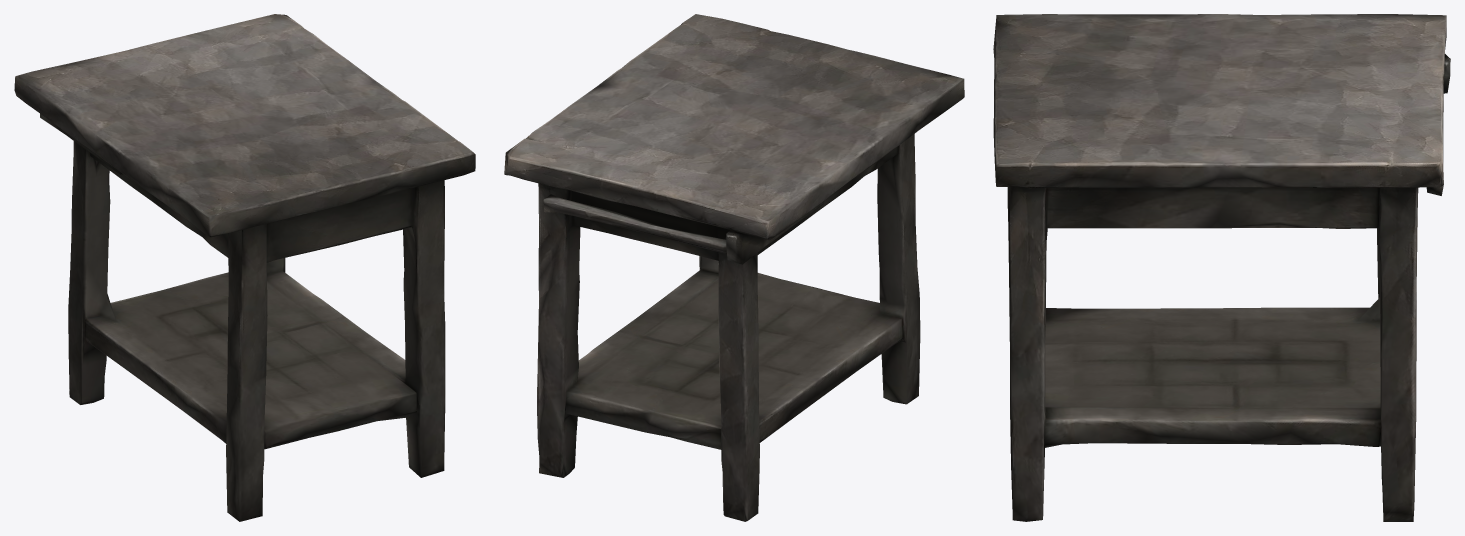
File: washstand_table.glb
3 views of the same model, side by side, from view 1: azimuth 30°, elevation 25°; view 2: azimuth 150°, elevation 25°; view 3: azimuth 270°, elevation 25° (orthographic). The views are drawn at different scales.
Visible parts, largest first — view 1: tripo_node_2dea074f-6b88-4a8c-8027-adb94bc52195; view 2: tripo_node_2dea074f-6b88-4a8c-8027-adb94bc52195; view 3: tripo_node_2dea074f-6b88-4a8c-8027-adb94bc52195.
Boxes of the visible parts, box(x1,y1,x2,y2) form: tripo_node_2dea074f-6b88-4a8c-8027-adb94bc52195: box(14, 14, 475, 521); tripo_node_2dea074f-6b88-4a8c-8027-adb94bc52195: box(504, 14, 964, 521); tripo_node_2dea074f-6b88-4a8c-8027-adb94bc52195: box(993, 14, 1450, 521).
Size of the model in its own units: 0.785 by 0.9014 by 1.
1 material, 1 textured.
